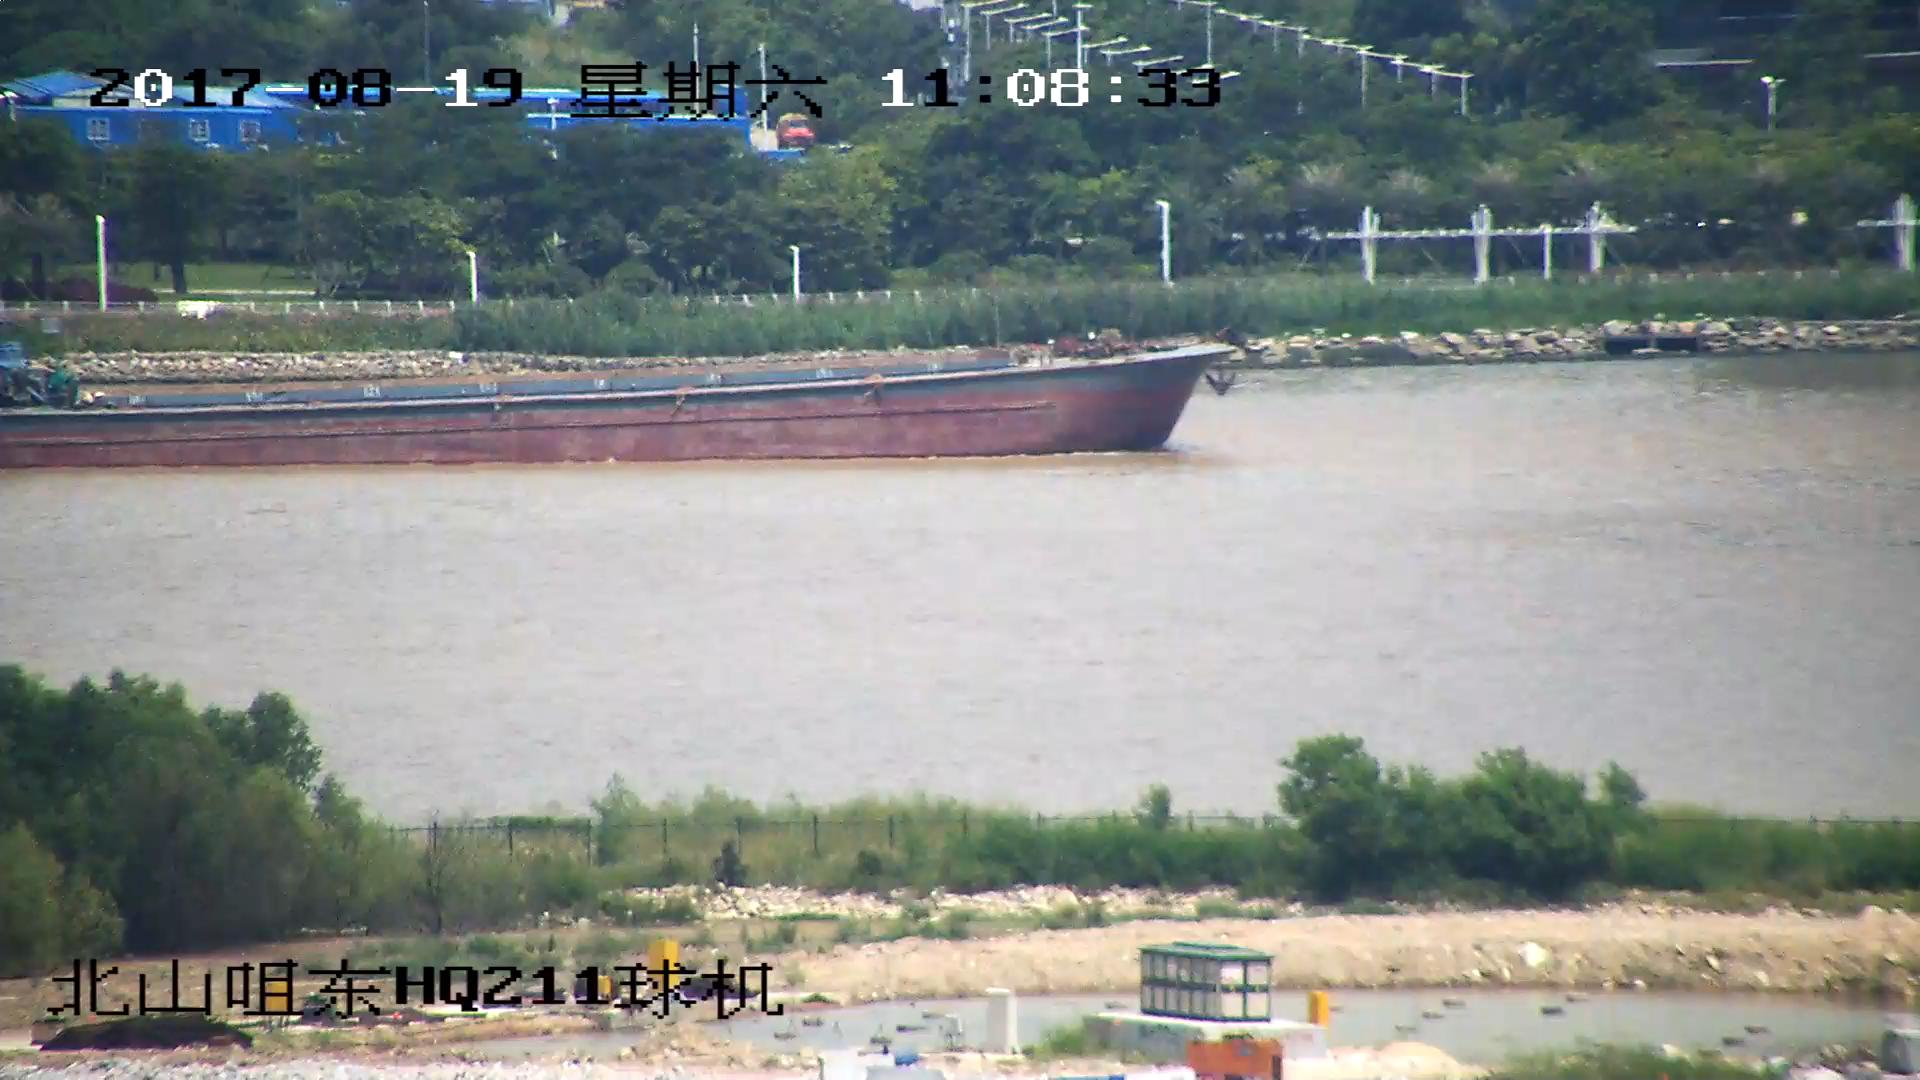bulk cargo carrier: (1, 320, 1232, 466)
